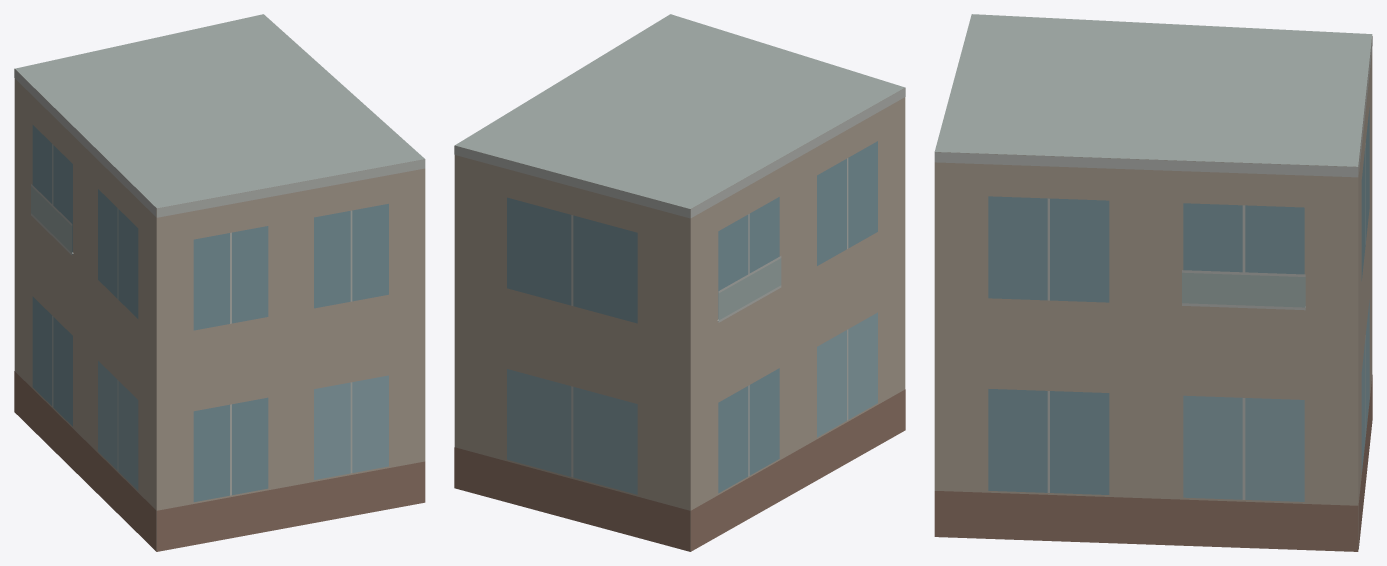
File: survey-upis-32668098.glb
3 views of the same model, side by side, from view 1: azimuth 30°, elevation 25°; view 2: azimuth 150°, elevation 25°; view 3: azimuth 270°, elevation 25° (orthographic). The views are drawn at different scales.
Visible parts, largest first — view 1: survey-upis-32668098.tmp; view 2: survey-upis-32668098.tmp; view 3: survey-upis-32668098.tmp.
Part boxes in pixels (x1,y1,x2,y2): survey-upis-32668098.tmp: (14,14,425,551); survey-upis-32668098.tmp: (454,14,905,551); survey-upis-32668098.tmp: (934,14,1372,551).
Bounding box in the file's own units: 7.59 × 8.9 × 9.18.
